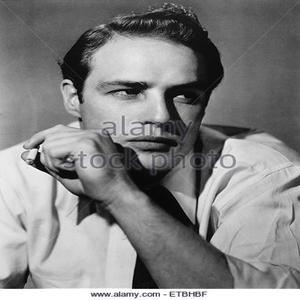cigarette: (22, 143, 41, 169)
